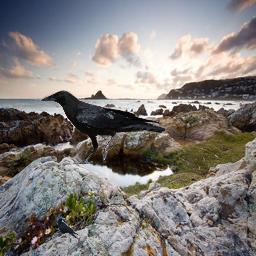Crow: (40, 89, 165, 164), (57, 217, 78, 239)
